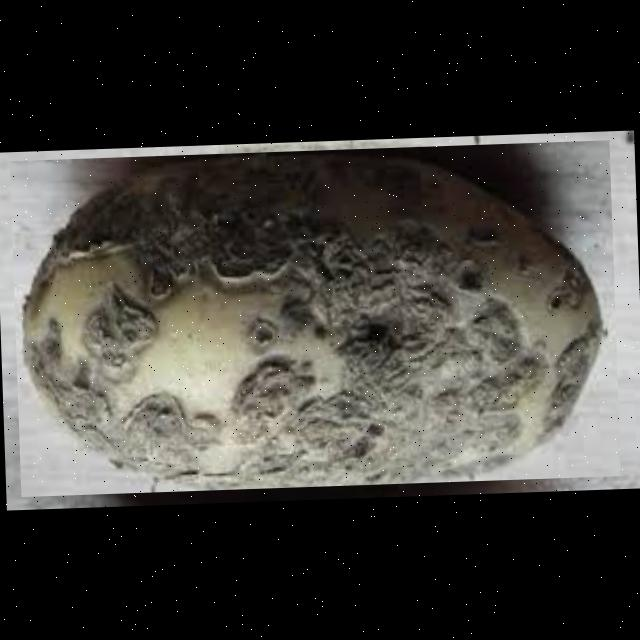Damaged potato: (9, 140, 620, 497)
